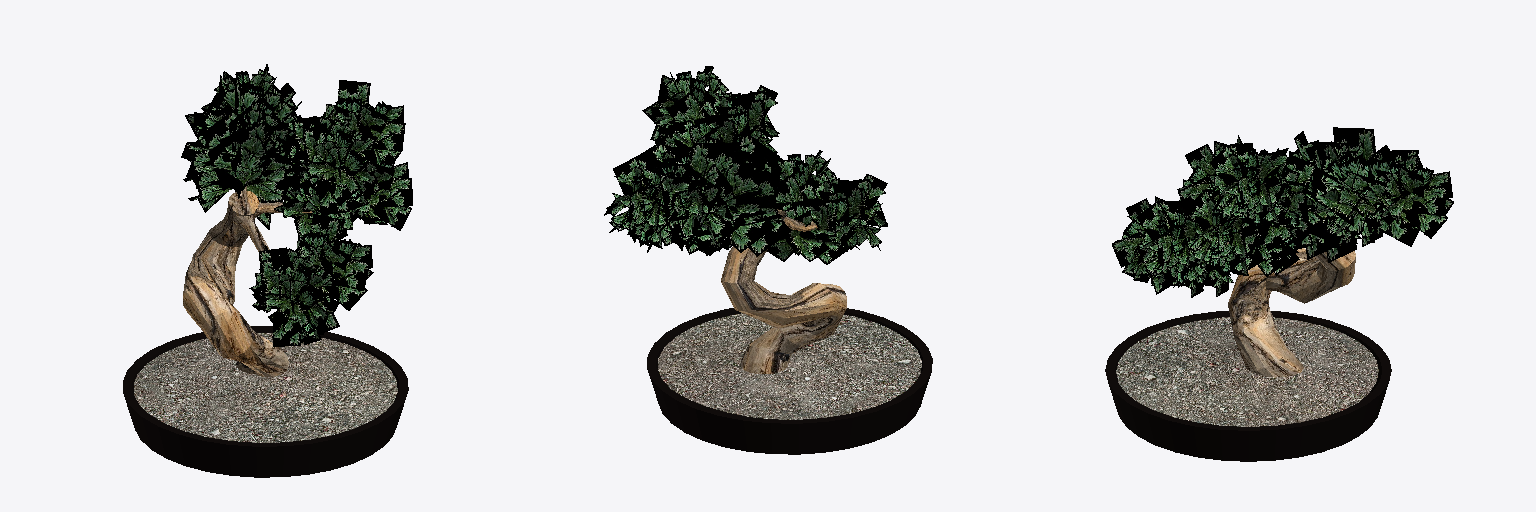
3 renders of one model, left to right at view 1: azimuth 30°, elevation 25°; view 2: azimuth 150°, elevation 25°; view 3: azimuth 270°, elevation 25°, orthographic.
Parts seen in each view (by area): view 1: Object_branches.jpg, Object_soil.jpg, Object_color_0.072670-0.054059-0.049911.jpg, Object_bark.jpg; view 2: Object_branches.jpg, Object_soil.jpg, Object_color_0.072670-0.054059-0.049911.jpg, Object_bark.jpg; view 3: Object_branches.jpg, Object_soil.jpg, Object_color_0.072670-0.054059-0.049911.jpg, Object_bark.jpg.
Boxes of the visible parts, box(x1,y1,x2,y2) form: Object_branches.jpg: box(181, 64, 412, 346); Object_soil.jpg: box(134, 333, 397, 442); Object_color_0.072670-0.054059-0.049911.jpg: box(123, 326, 408, 477); Object_bark.jpg: box(183, 186, 311, 376); Object_branches.jpg: box(604, 66, 887, 264); Object_soil.jpg: box(658, 313, 921, 419); Object_color_0.072670-0.054059-0.049911.jpg: box(647, 308, 932, 454); Object_bark.jpg: box(721, 209, 846, 373); Object_branches.jpg: box(1112, 127, 1453, 297); Object_soil.jpg: box(1116, 317, 1378, 426); Object_color_0.072670-0.054059-0.049911.jpg: box(1105, 311, 1391, 461); Object_bark.jpg: box(1156, 242, 1355, 377).
Bounding box in the file's own units: 2.15 × 2.41 × 2.5.
Materials: 5 (3 with a texture image).